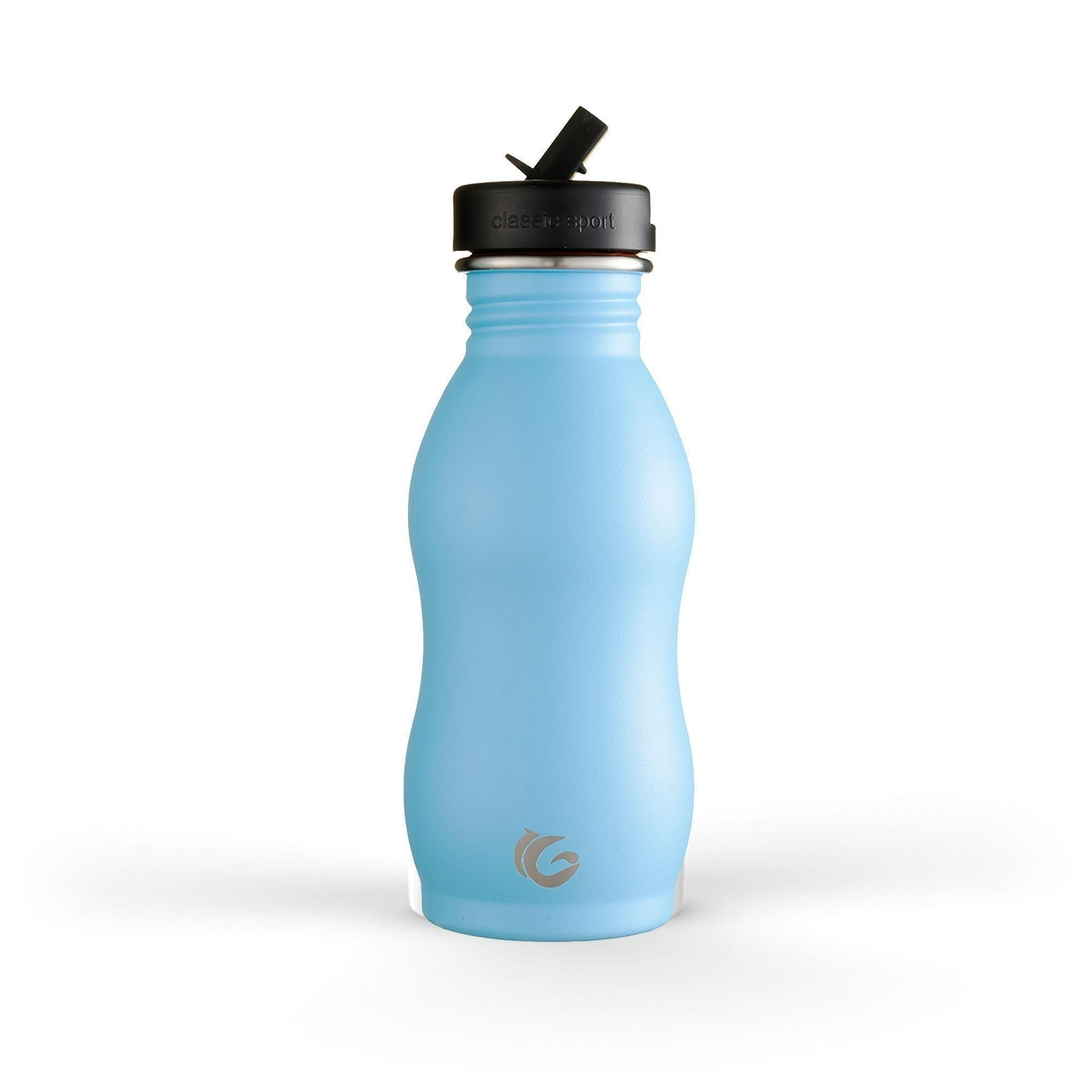gym bottle: (395, 102, 713, 952)
